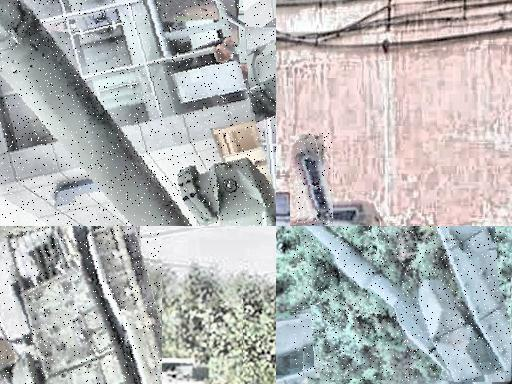tanks: (1, 1, 277, 227), (304, 227, 511, 382), (1, 227, 162, 384), (297, 135, 334, 227)
